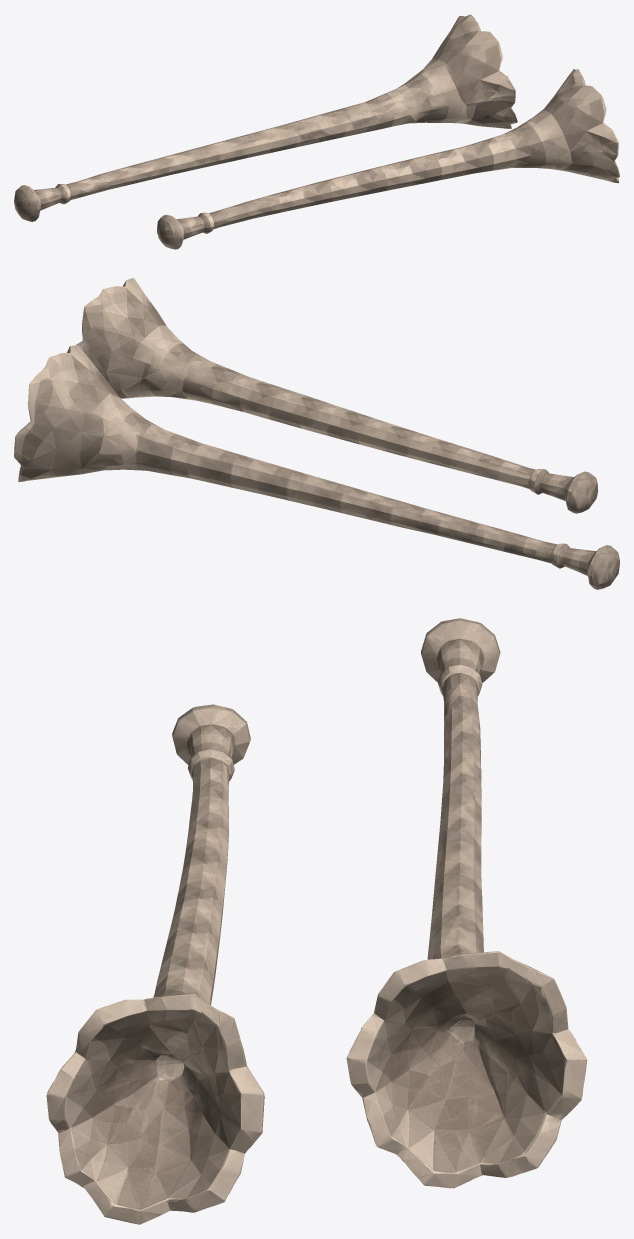
File: silver-trumpets.glb
3 renders of one model, top to bottom at view 1: azimuth 30°, elevation 25°; view 2: azimuth 150°, elevation 25°; view 3: azimuth 270°, elevation 25°, orthographic. The views are drawn at different scales.
Bounding box in the file's own units: 1.9 × 0.3944 × 0.8631.
Materials: 1 (1 with a texture image).
